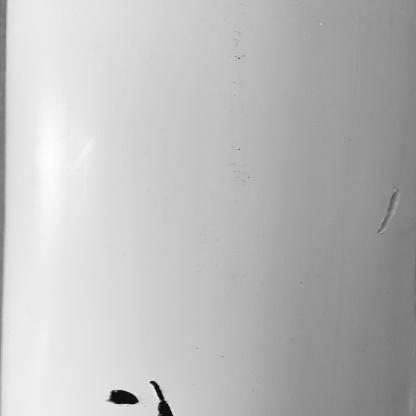kongdong: (141, 368, 191, 416), (98, 381, 142, 409)
sunshang: (371, 187, 404, 236)
